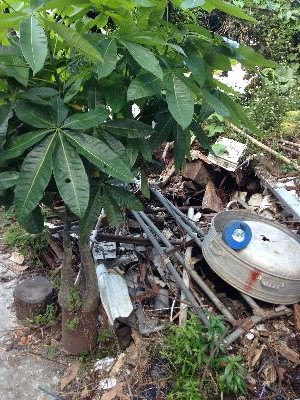bowl: (200, 207, 300, 307)
